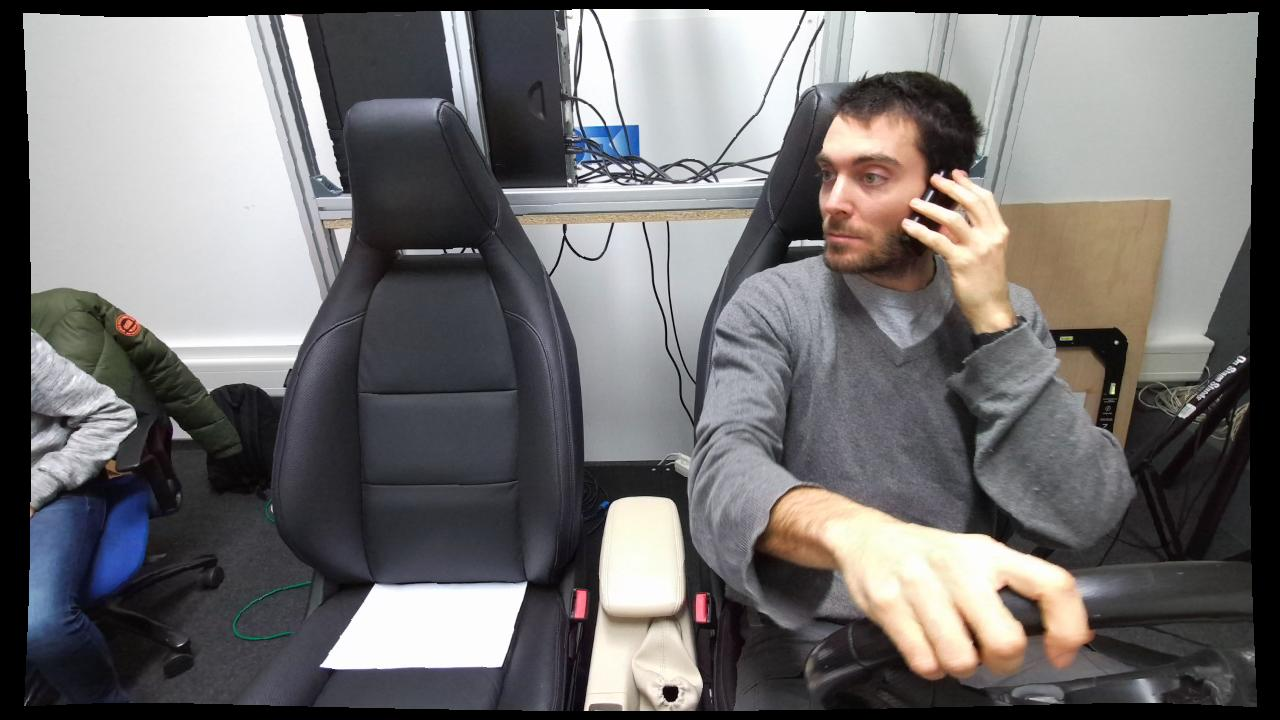Distracted: (694, 61, 1065, 705), (694, 64, 1054, 704)
PhoneUse: (889, 168, 974, 257)
